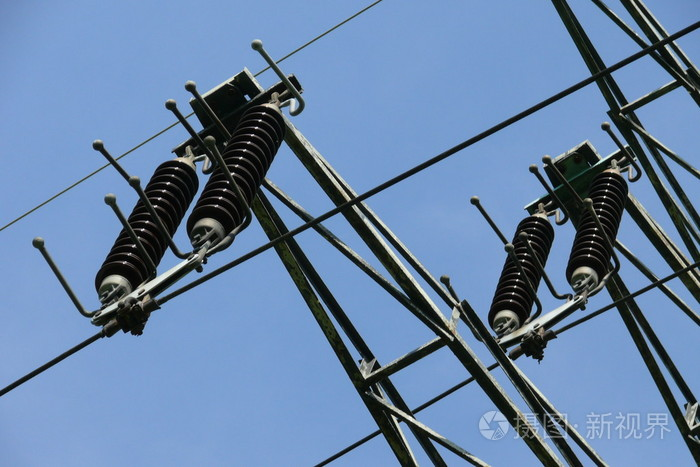insulator: (94, 159, 198, 294), (187, 105, 283, 241), (564, 170, 628, 290), (487, 217, 556, 327)
